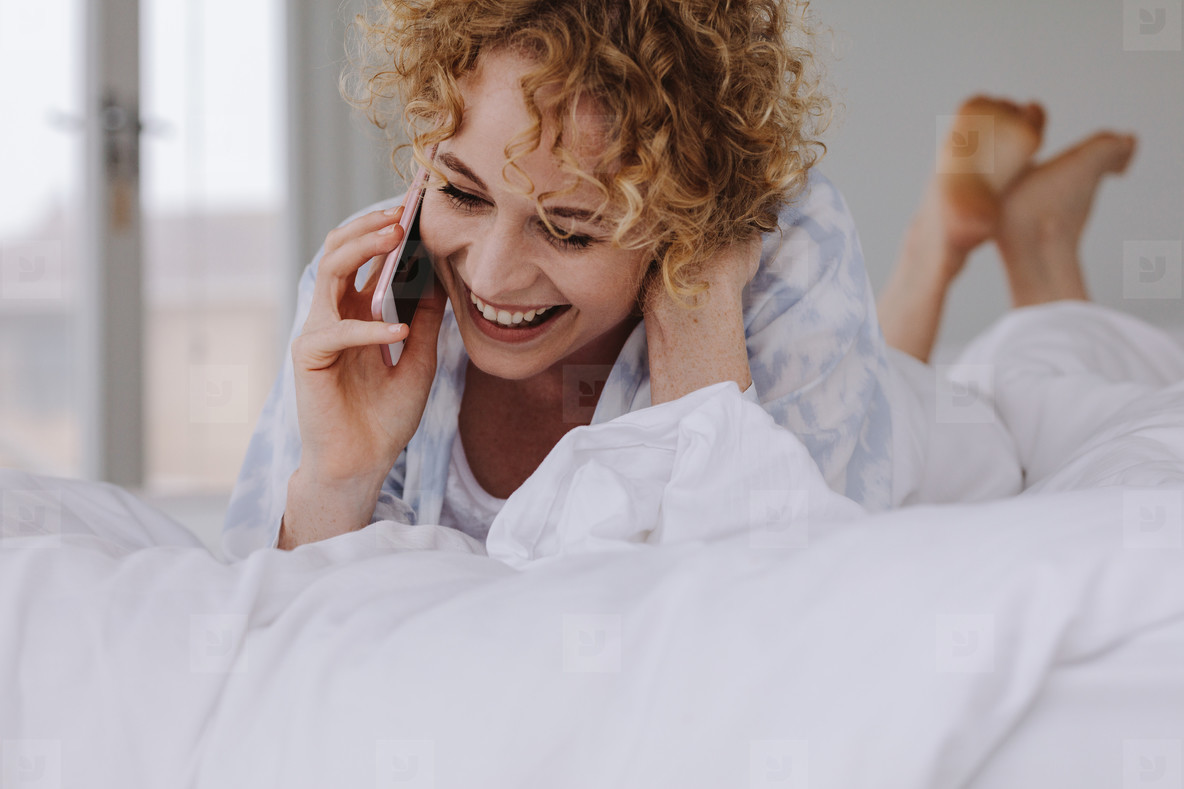phone: (295, 201, 458, 380)
talk: (281, 142, 654, 450)
